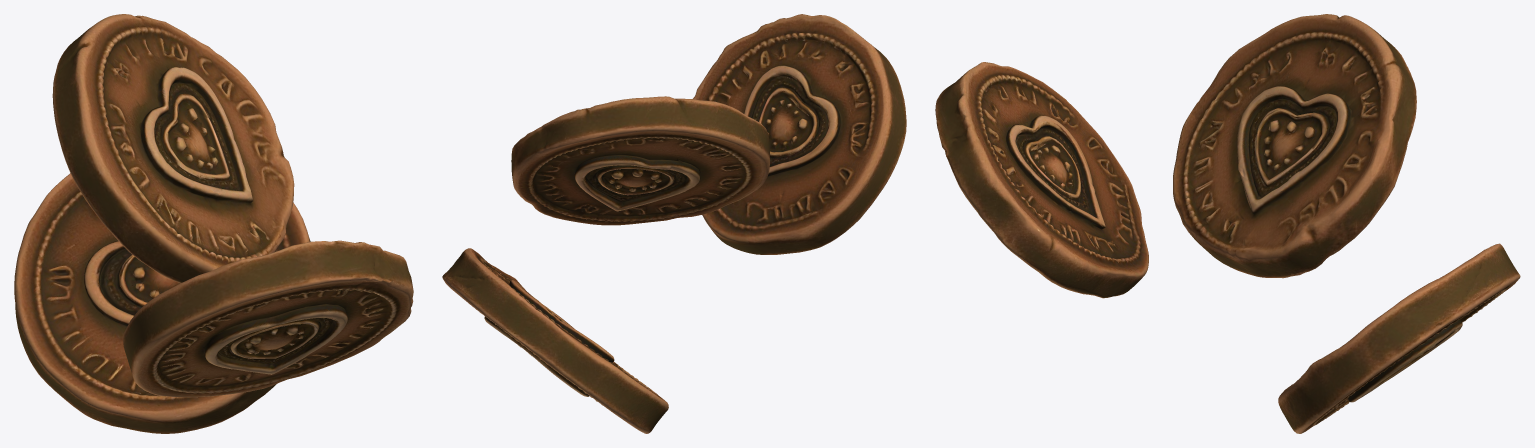
The model's file is Coins.glb.
The picture shows the model from 3 angles, left to right: view 1: azimuth 30°, elevation 25°; view 2: azimuth 150°, elevation 25°; view 3: azimuth 270°, elevation 25°; orthographic projection. The views are drawn at different scales.
Visible parts, largest first — view 1: tripo_node_2a9e5747-fc83-4824-9b57-d63b1f8ee8c4; view 2: tripo_node_2a9e5747-fc83-4824-9b57-d63b1f8ee8c4; view 3: tripo_node_2a9e5747-fc83-4824-9b57-d63b1f8ee8c4.
Boxes of the visible parts, x1,y1,x2,y2 form: tripo_node_2a9e5747-fc83-4824-9b57-d63b1f8ee8c4: [14, 14, 413, 433]; tripo_node_2a9e5747-fc83-4824-9b57-d63b1f8ee8c4: [442, 14, 906, 433]; tripo_node_2a9e5747-fc83-4824-9b57-d63b1f8ee8c4: [935, 14, 1520, 433].
Bounding box in the file's own units: 0.6183 × 0.6916 × 0.9807.
1 material, 1 textured.
